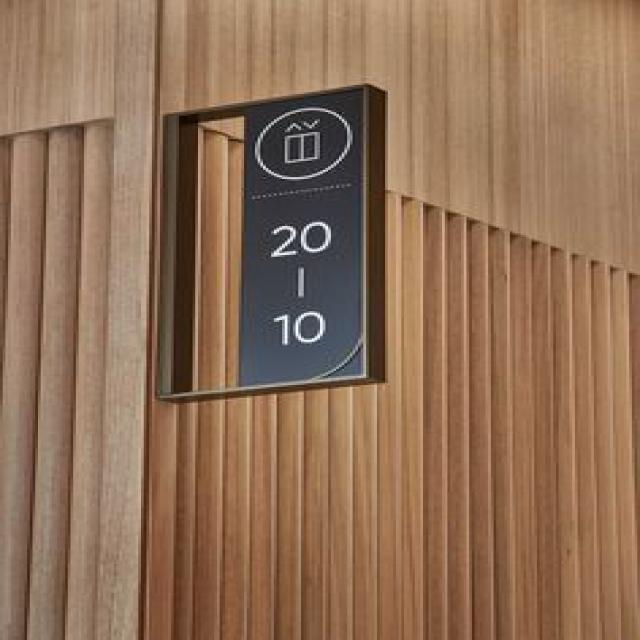lift_icon: (274, 116, 332, 167)
